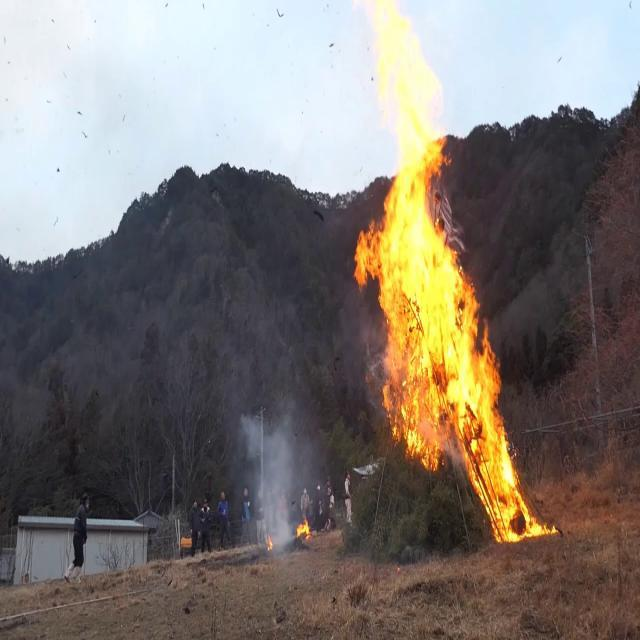Fire: (352, 1, 528, 550), (294, 512, 314, 543)
Smoke: (238, 402, 308, 544)
